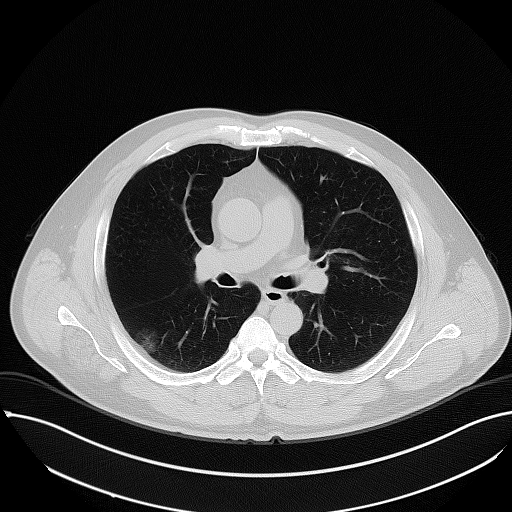nodule: (135, 329, 159, 353)
